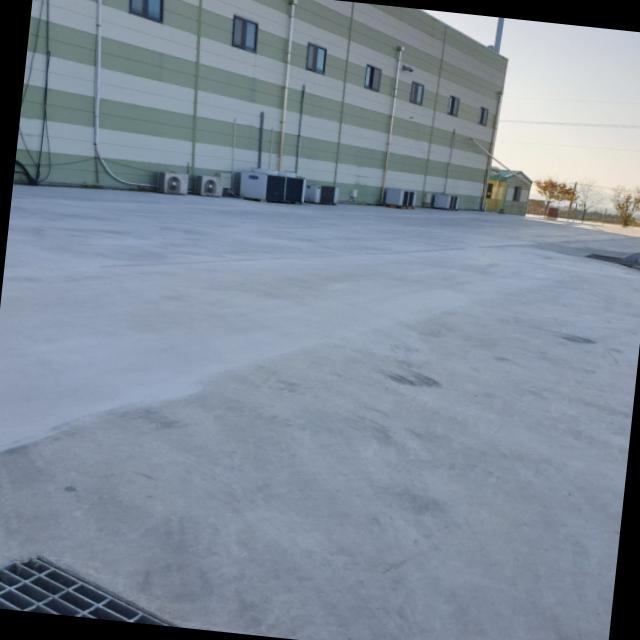cement: (0, 186, 640, 640)
